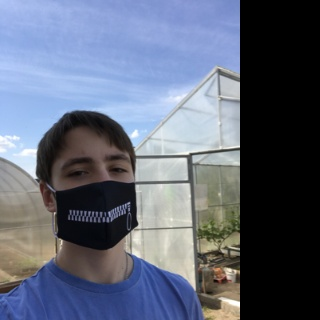with_mask: (50, 146, 139, 250)
